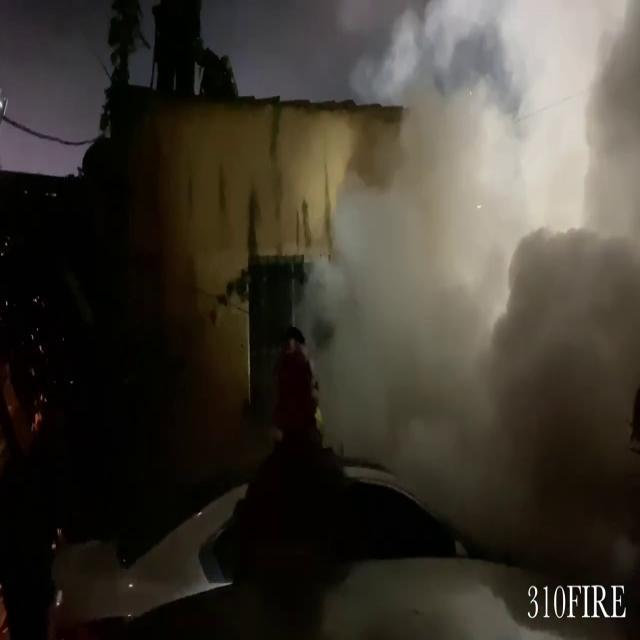Smoke: (250, 1, 640, 545)
